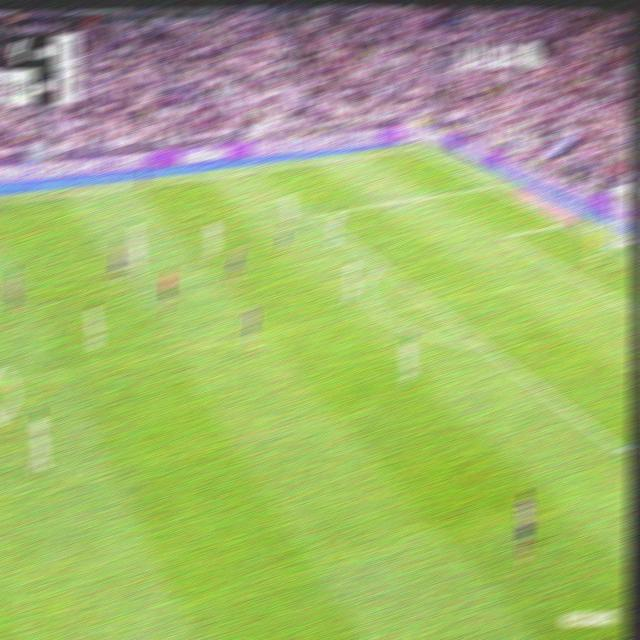bigarea_bottom_inner: (611, 437, 628, 460)
bigarea_top_inner: (308, 206, 322, 221)
bottom_arc_area_intersection: (475, 335, 491, 354)
corner: (409, 143, 422, 152)
smallarea_top_inner: (498, 229, 510, 241)
top_arc_area_intersection: (374, 257, 388, 272)
